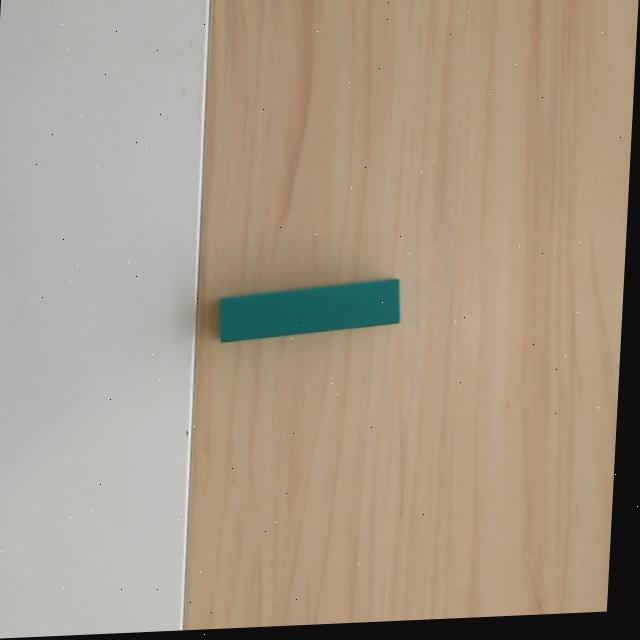Balok-Hijau-1002525: (215, 278, 403, 343)
